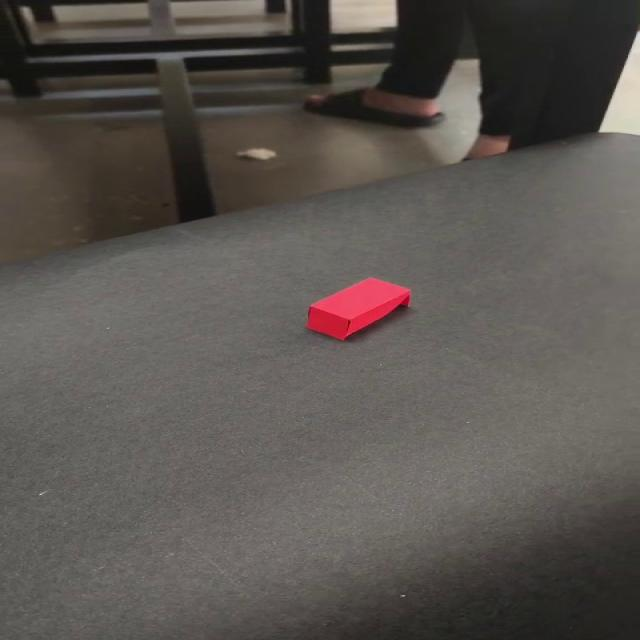red block: (304, 276, 411, 340)
